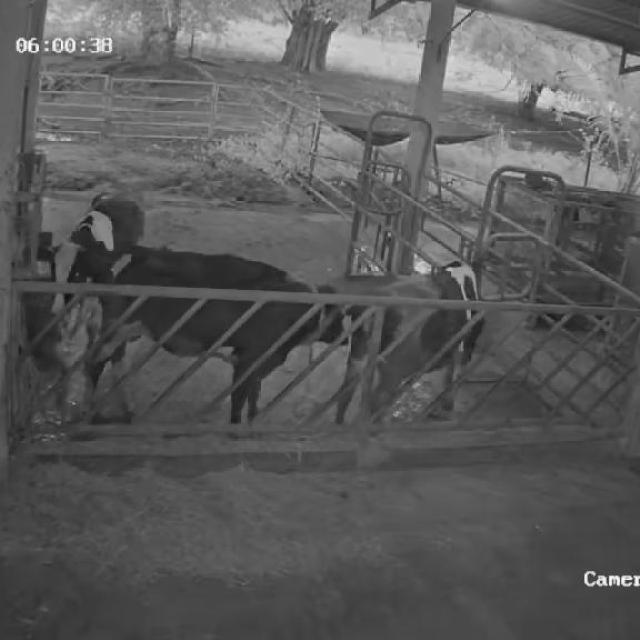standing: (349, 259, 487, 432), (37, 189, 147, 329)
